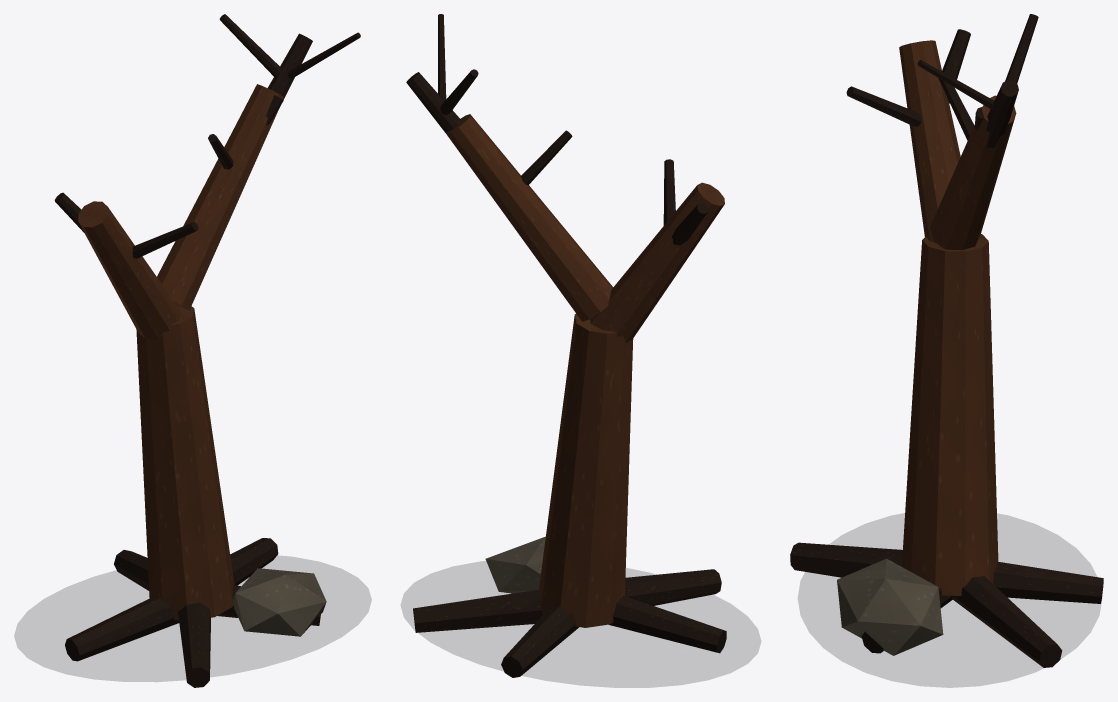
Rendered from dead_tree_b_bc_v1.glb.
3 views of the same model, side by side, from view 1: azimuth 30°, elevation 25°; view 2: azimuth 150°, elevation 25°; view 3: azimuth 270°, elevation 25° (orthographic). The views are drawn at different scales.
Parts seen in each view (by area): view 1: split_dead_branch_0.001, ground_contact_shadow.002, split_dead_branch_2.001, split_dead_branch_1.001, root_stone.001, exposed_root_4.001, exposed_root_3.001, exposed_root_1.001, split_dead_branch_3.001, exposed_root_0.001, dry_twig_3.001, dry_opposing_twig_1.001 (+1 smaller); view 2: split_dead_branch_0.001, ground_contact_shadow.002, split_dead_branch_2.001, split_dead_branch_1.001, exposed_root_1.001, exposed_root_4.001, exposed_root_3.001, exposed_root_0.001, root_stone.001, split_dead_branch_3.001, dry_opposing_twig_2.001, dry_twig_1.001 (+3 smaller); view 3: split_dead_branch_0.001, ground_contact_shadow.002, root_stone.001, split_dead_branch_1.001, split_dead_branch_2.001, exposed_root_1.001, exposed_root_0.001, exposed_root_3.001, split_dead_branch_3.001, dry_opposing_twig_1.001, dry_twig_3.001, dry_twig_1.001 (+2 smaller).
Part boxes in pixels (x1,y1,x2,y2): split_dead_branch_0.001: (136, 306, 234, 620); ground_contact_shadow.002: (14, 556, 371, 681); split_dead_branch_2.001: (157, 84, 283, 310); split_dead_branch_1.001: (78, 201, 181, 339); root_stone.001: (233, 568, 326, 636); exposed_root_4.001: (65, 596, 179, 661); exposed_root_3.001: (178, 602, 210, 687); exposed_root_1.001: (230, 538, 278, 585); split_dead_branch_3.001: (268, 33, 312, 108); exposed_root_0.001: (114, 550, 149, 590); dry_twig_3.001: (219, 14, 281, 77); dry_opposing_twig_1.001: (132, 222, 198, 258); split_dead_branch_0.001: (539, 313, 633, 627); ground_contact_shadow.002: (401, 561, 760, 687); split_dead_branch_2.001: (446, 114, 613, 321); split_dead_branch_1.001: (590, 182, 724, 342); exposed_root_1.001: (413, 589, 542, 632); exposed_root_4.001: (609, 596, 726, 653); exposed_root_3.001: (625, 569, 721, 605); exposed_root_0.001: (501, 606, 579, 677); root_stone.001: (485, 536, 545, 593); split_dead_branch_3.001: (406, 72, 461, 133); dry_opposing_twig_2.001: (520, 130, 572, 185); dry_twig_1.001: (672, 202, 708, 245); split_dead_branch_0.001: (901, 234, 998, 595); ground_contact_shadow.002: (798, 513, 1100, 687); root_stone.001: (837, 558, 943, 655); split_dead_branch_1.001: (899, 40, 960, 242); split_dead_branch_2.001: (930, 95, 1016, 250); exposed_root_1.001: (952, 576, 1062, 667); exposed_root_0.001: (993, 562, 1103, 603); exposed_root_3.001: (790, 542, 902, 577); split_dead_branch_3.001: (986, 80, 1018, 147); dry_opposing_twig_1.001: (846, 86, 921, 126); dry_twig_3.001: (1005, 14, 1038, 83); dry_twig_1.001: (942, 29, 970, 103).
Size of the model in its own units: 1.56 by 2.55 by 1.15.
Materials: 4 (4 with a texture image).
